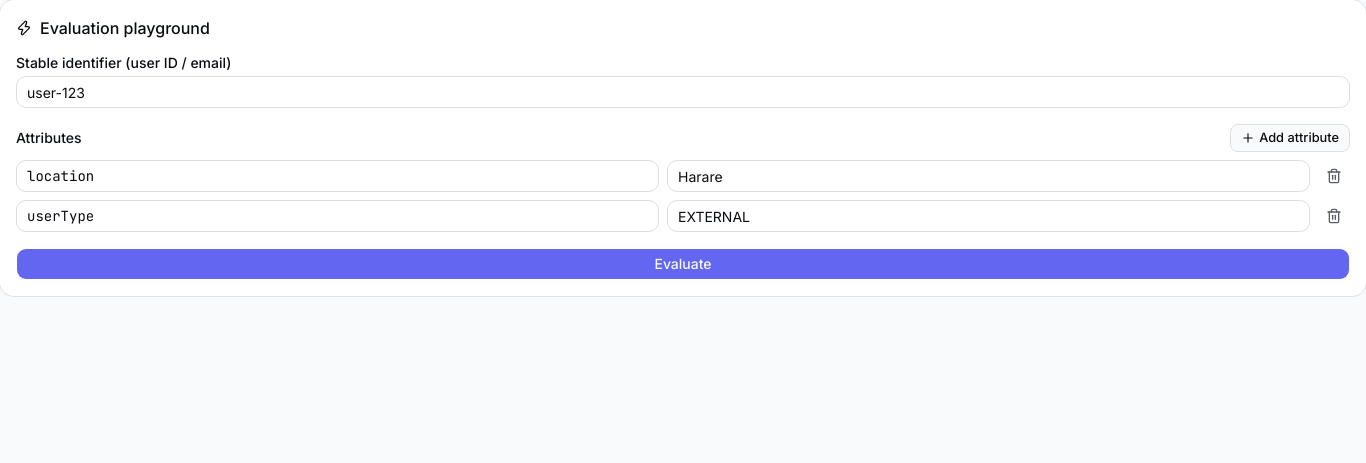
EvaluationPlayground › shows the resolved result, reason, and bucket after a successful evaluation
This screenshot has width=1366, height=463.
Click the button "Evaluate" at (683, 264), box [16,248,1350,280]
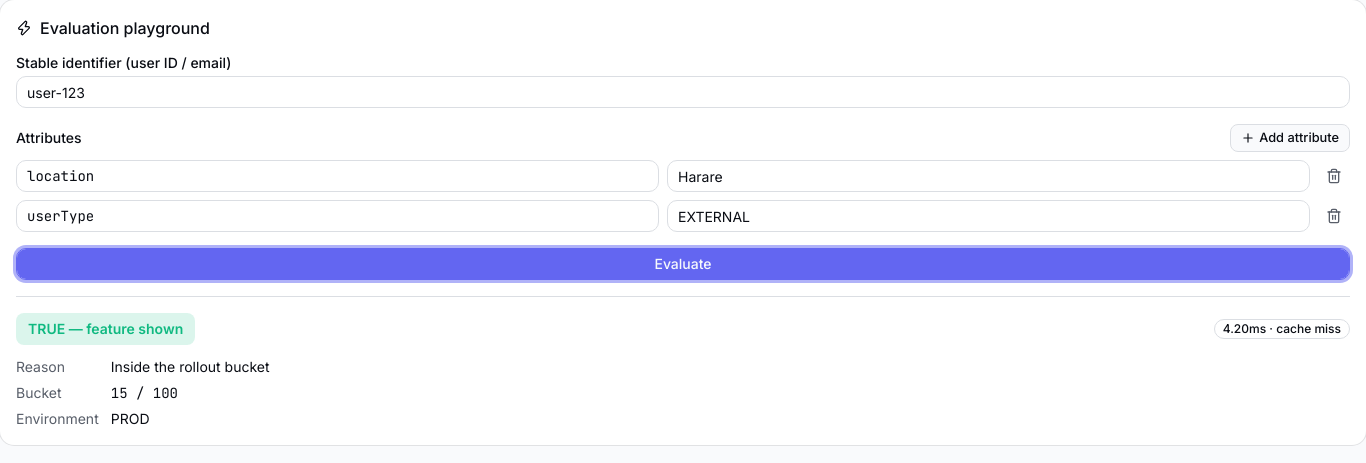
Check: the text "TRUE — feature shown" is shown, box [16,313,195,345]
Check: the text "Inside the rollout bucket" is shown, box [111,358,270,375]
Check: the text "15 / 100" is shown, box [111,384,178,402]
